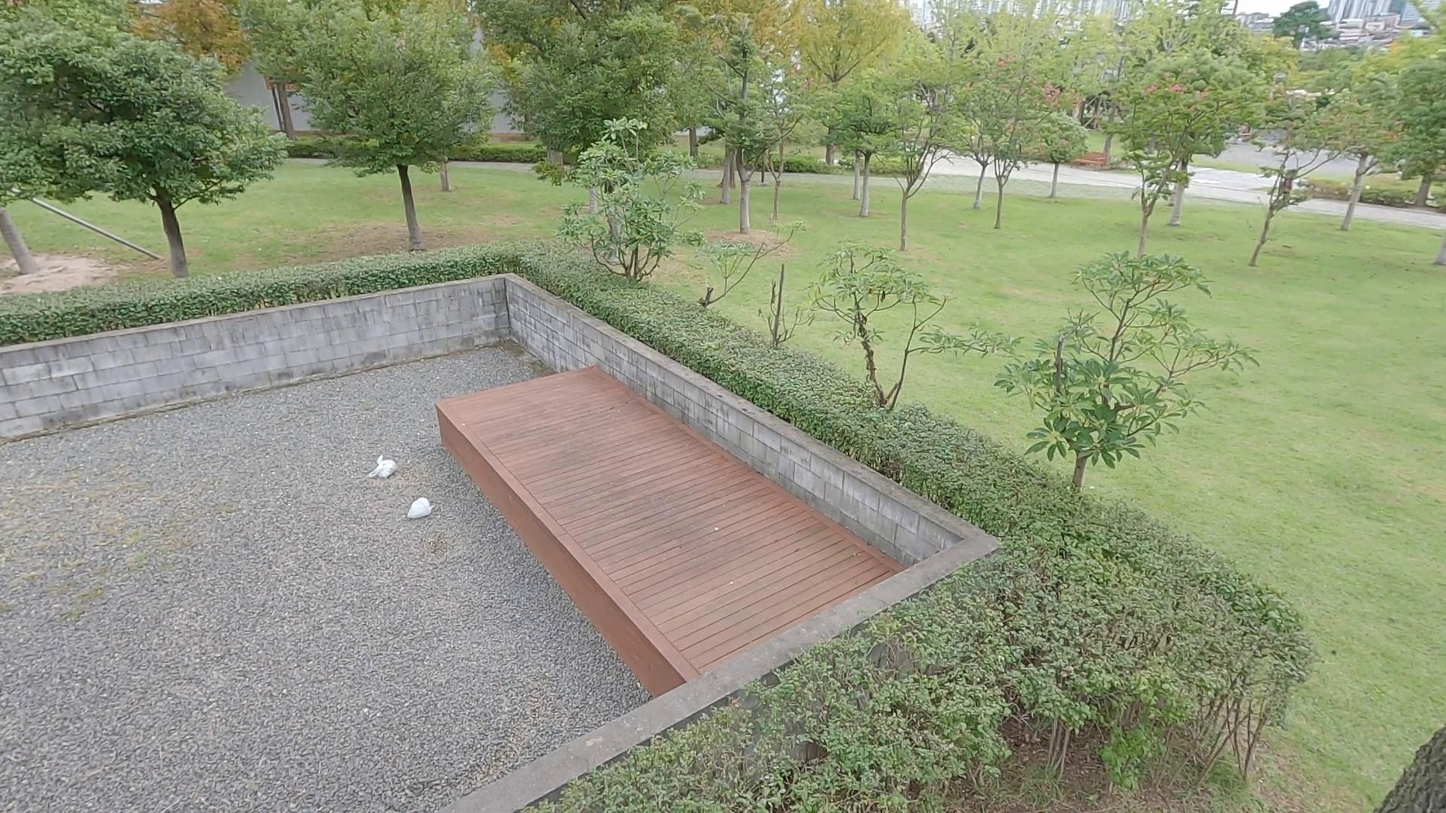trash: (403, 493, 439, 526), (371, 456, 398, 479)
